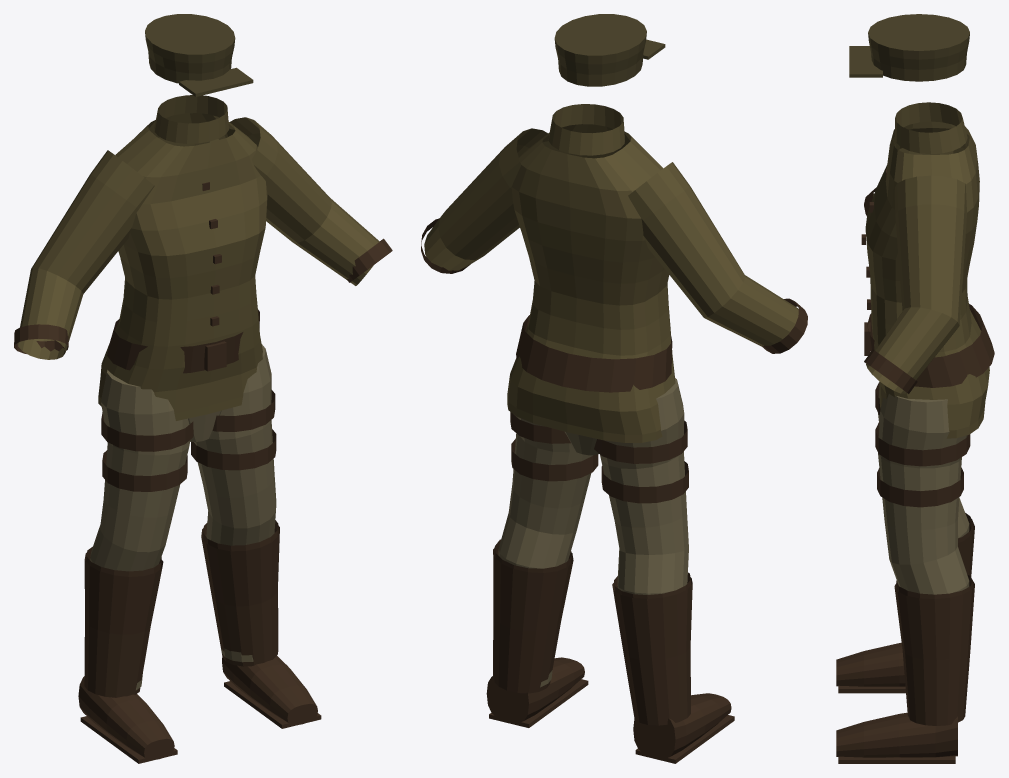
File: tenue_corps_entrainement_lod0.glb
3 renders of one model, left to right at view 1: azimuth 30°, elevation 25°; view 2: azimuth 150°, elevation 25°; view 3: azimuth 270°, elevation 25°, orthographic. The views are drawn at different scales.
Parts seen in each view (by area): view 1: spine_02, thigh_r, calf_r, calf_l, thigh_l, upperarm_r, head, upperarm_l, foot_r, lowerarm_r, foot_l, lowerarm_l (+2 smaller); view 2: spine_02, calf_r, calf_l, thigh_r, upperarm_r, thigh_l, pelvis, upperarm_l, head, lowerarm_r, foot_r, foot_l (+2 smaller); view 3: spine_02, thigh_l, calf_l, upperarm_l, head, foot_l, lowerarm_l, pelvis, foot_r, neck_01, calf_r.
Part boxes in pixels (left/top/right/bottom): spine_02: left=98, top=113, right=267, bottom=413; thigh_r: left=100, top=370, right=193, bottom=552; calf_r: left=84, top=525, right=165, bottom=697; calf_l: left=201, top=507, right=279, bottom=666; thigh_l: left=191, top=344, right=276, bottom=528; upperarm_r: left=31, top=150, right=154, bottom=293; head: left=145, top=14, right=253, bottom=96; upperarm_l: left=210, top=117, right=331, bottom=242; foot_r: left=78, top=676, right=177, bottom=763; lowerarm_r: left=14, top=267, right=83, bottom=359; foot_l: left=222, top=656, right=321, bottom=728; lowerarm_l: left=293, top=198, right=392, bottom=285; spine_02: left=507, top=124, right=675, bottom=434; calf_r: left=612, top=548, right=692, bottom=725; calf_l: left=493, top=513, right=576, bottom=693; thigh_r: left=594, top=378, right=688, bottom=554; upperarm_r: left=628, top=162, right=745, bottom=317; thigh_l: left=508, top=412, right=598, bottom=534; pelvis: left=507, top=315, right=672, bottom=455; upperarm_l: left=438, top=128, right=568, bottom=259; head: left=554, top=14, right=665, bottom=86; lowerarm_r: left=704, top=275, right=807, bottom=353; foot_r: left=633, top=693, right=734, bottom=763; foot_l: left=486, top=657, right=588, bottom=727; spine_02: left=861, top=121, right=989, bottom=430; thigh_l: left=875, top=394, right=970, bottom=564; calf_l: left=889, top=546, right=974, bottom=725; upperarm_l: left=894, top=175, right=966, bottom=325; head: left=849, top=14, right=969, bottom=81; foot_l: left=836, top=712, right=957, bottom=763; lowerarm_l: left=864, top=307, right=959, bottom=393; pelvis: left=864, top=304, right=994, bottom=438; foot_r: left=836, top=642, right=905, bottom=693; neck_01: left=894, top=102, right=967, bottom=154; calf_r: left=958, top=498, right=974, bottom=576.
Size of the model in its own units: 0.9753 by 1.69 by 0.354.
